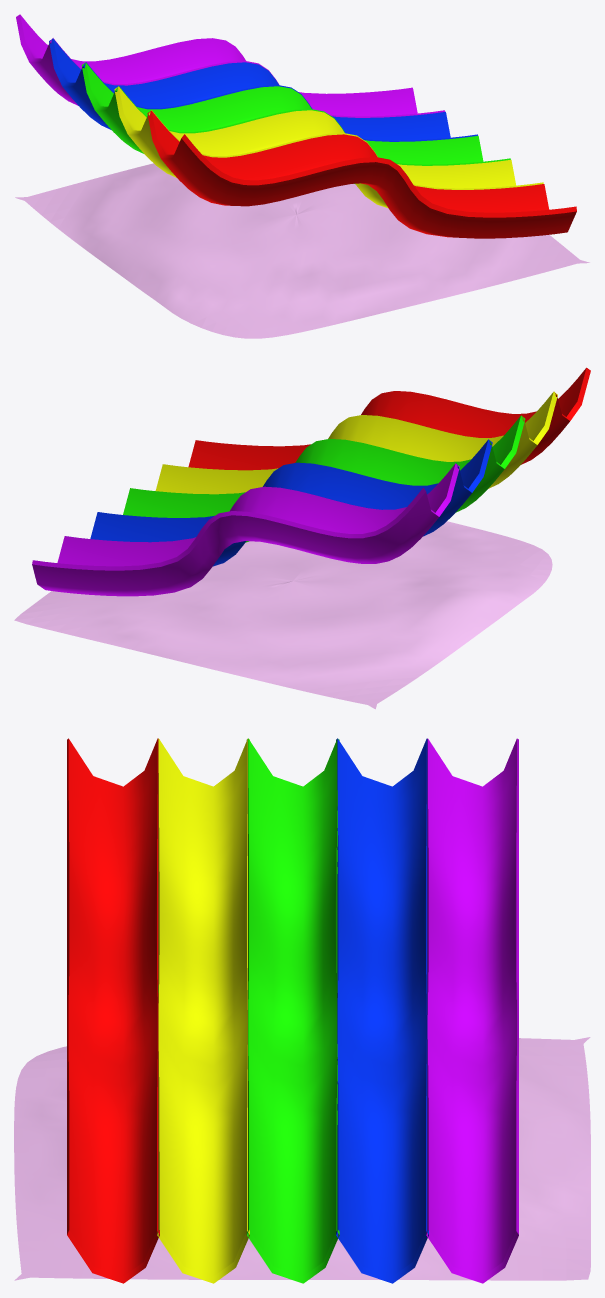
File: rainbowSlide.glb
The picture shows the model from 3 angles, top to bottom: view 1: azimuth 30°, elevation 25°; view 2: azimuth 150°, elevation 25°; view 3: azimuth 270°, elevation 25°; orthographic projection. The views are drawn at different scales.
Visible parts, largest first — view 1: Object_4, Object_13, Object_14, Object_17, Object_15, Object_16; view 2: Object_4, Object_17, Object_16, Object_13, Object_14, Object_15; view 3: Object_17, Object_13, Object_16, Object_14, Object_15, Object_4.
Boxes of the visible parts, bbox=[...] form: Object_4: bbox=[15, 163, 589, 338]; Object_13: bbox=[147, 110, 576, 238]; Object_14: bbox=[114, 86, 543, 207]; Object_17: bbox=[16, 14, 444, 117]; Object_15: bbox=[81, 62, 510, 184]; Object_16: bbox=[49, 38, 477, 141]; Object_4: bbox=[14, 521, 552, 709]; Object_17: bbox=[32, 463, 459, 596]; Object_16: bbox=[90, 439, 492, 566]; Object_13: bbox=[188, 367, 590, 470]; Object_14: bbox=[155, 391, 557, 494]; Object_15: bbox=[123, 415, 525, 542]; Object_17: bbox=[426, 738, 518, 1283]; Object_13: bbox=[67, 738, 159, 1283]; Object_16: bbox=[336, 738, 428, 1283]; Object_14: bbox=[157, 738, 249, 1283]; Object_15: bbox=[246, 738, 339, 1283]; Object_4: bbox=[14, 1037, 590, 1280].
Size of the model in its own units: 9.99 by 5.03 by 9.22.
